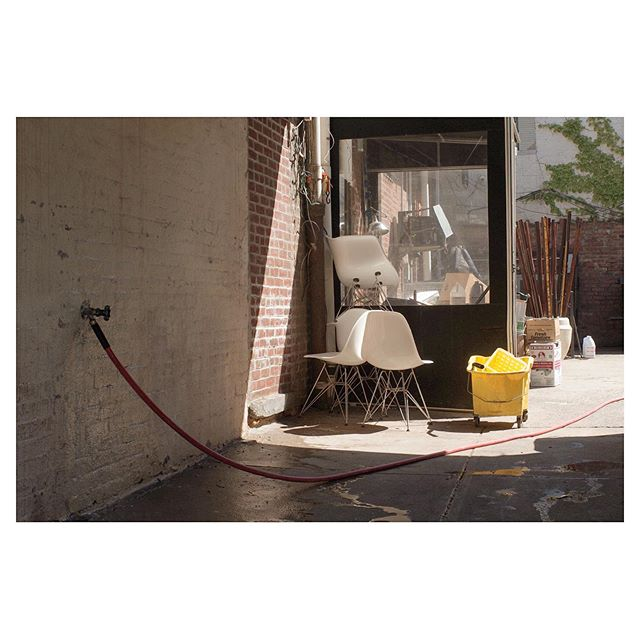chair: (358, 322, 438, 439), (320, 223, 402, 308), (313, 307, 366, 424)
